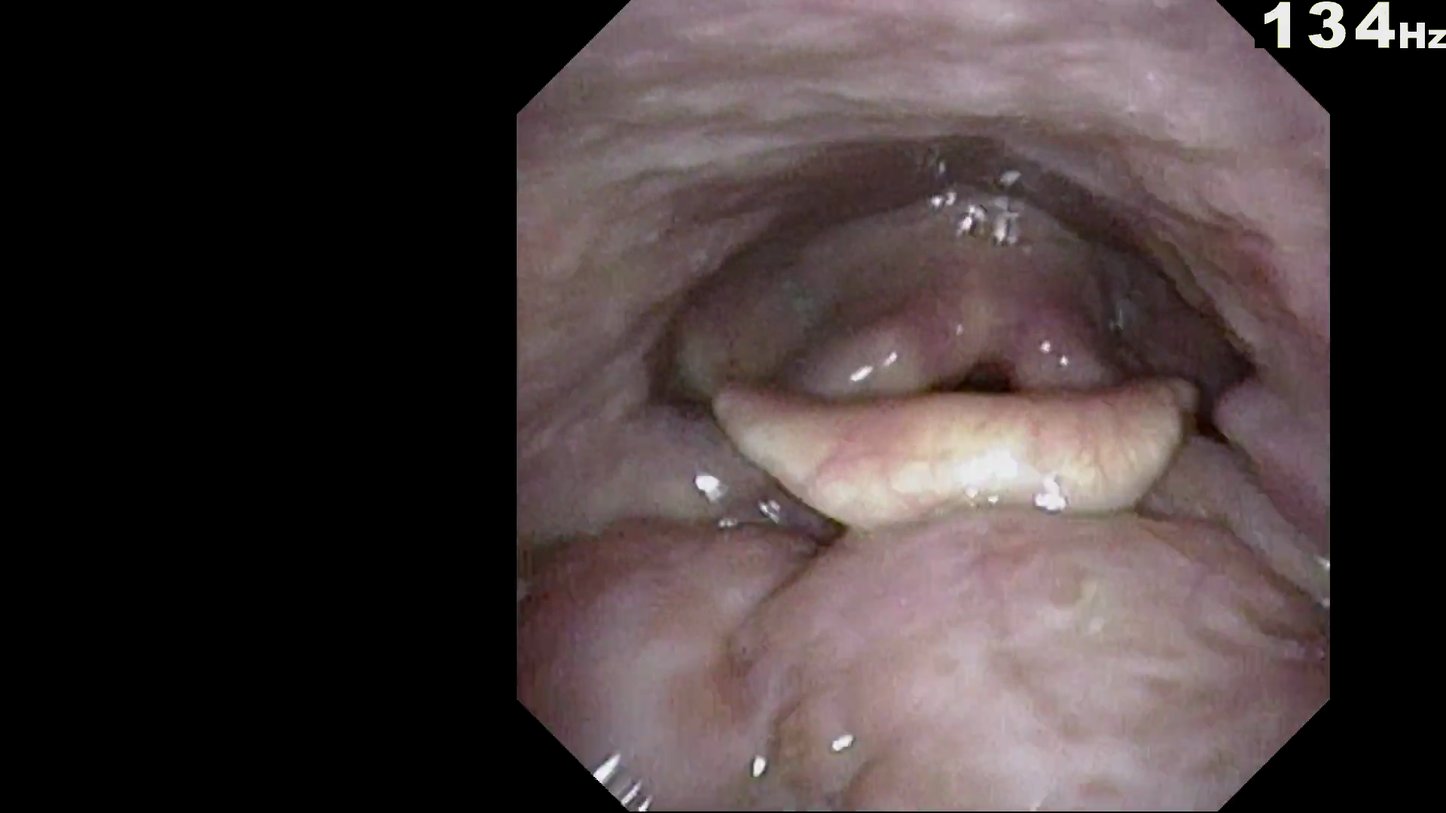epiglottis: (709, 337, 1176, 456)
